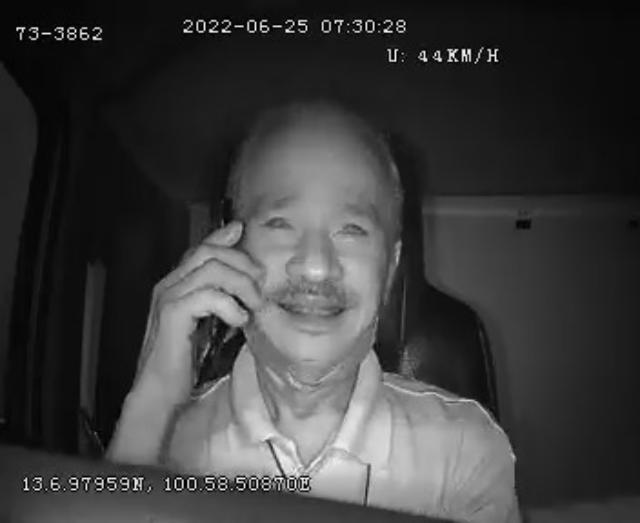PhoneUse: (188, 201, 236, 390)
SafeDriving: (326, 204, 378, 248), (253, 201, 302, 237)
